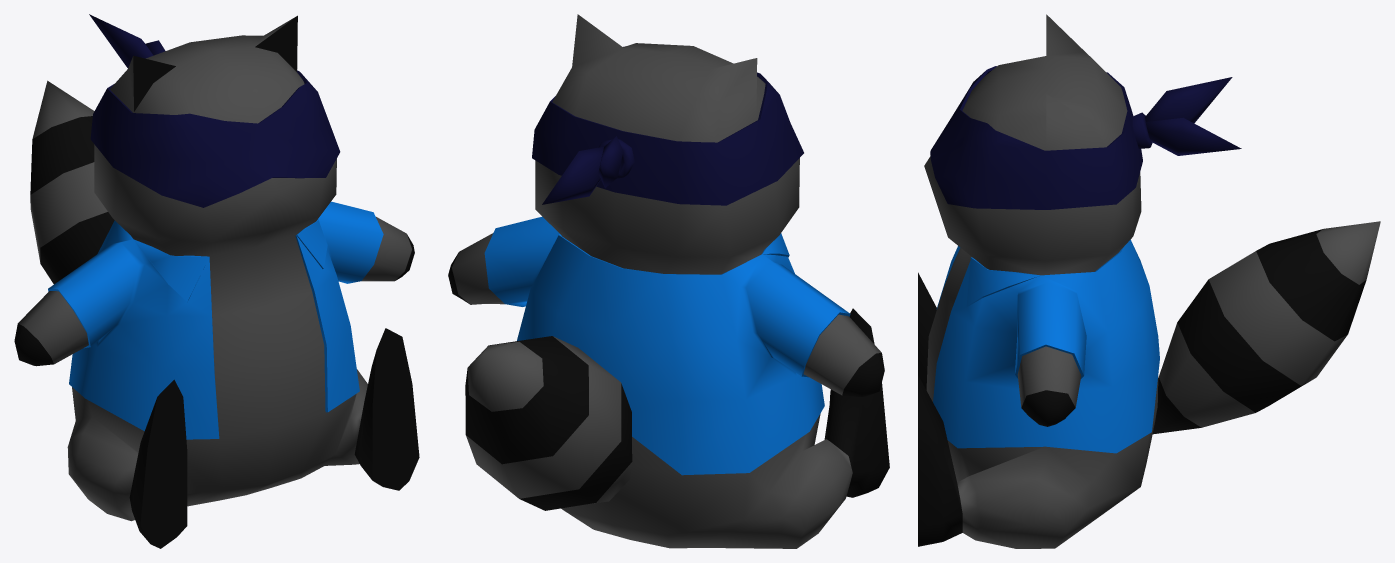
Rendered from SM_KahunaRaccoon.fbx.
3 views of the same model, side by side, from view 1: azimuth 30°, elevation 25°; view 2: azimuth 150°, elevation 25°; view 3: azimuth 270°, elevation 25° (orthographic). The views are drawn at different scales.
Visible parts, largest first — view 1: KahunaRaccoon; view 2: KahunaRaccoon; view 3: KahunaRaccoon.
Part boxes in pixels (x1,y1,x2,y2): KahunaRaccoon: (14, 14, 419, 548); KahunaRaccoon: (448, 14, 889, 548); KahunaRaccoon: (918, 14, 1380, 548).
Size of the model in its own units: 81.77 by 86.17 by 83.07.
